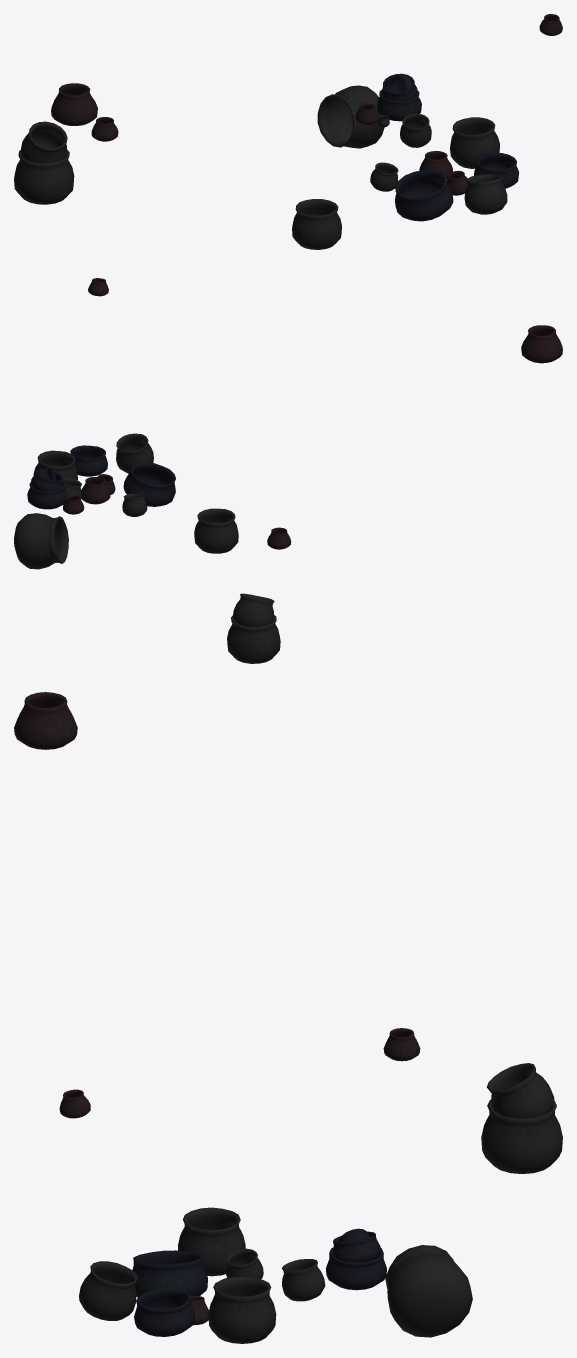
The model's file is kettles.obj.
The picture shows the model from 3 angles, top to bottom: view 1: azimuth 30°, elevation 25°; view 2: azimuth 150°, elevation 25°; view 3: azimuth 270°, elevation 25°; orthographic projection. The views are drawn at different scales.
Visible parts, largest first — view 1: kettle_1.005_Sphere.017, kettle_2.004_Sphere.013, kettle_1.007_Sphere.020, kettle_1.006_Sphere.019, kettle_1_Sphere.002, kettle_1.008_Sphere.021, kettle_3.003_Sphere.016, kettle_1.001_Sphere.006, kettle_2_Sphere.003, kettle_1.003_Sphere.014, kettle_2.001_Sphere.007, kettle_1.004_Sphere.015 (+7 smaller); view 2: kettle_1.005_Sphere.017, kettle_1.007_Sphere.020, kettle_2.004_Sphere.013, kettle_1.006_Sphere.019, kettle_3.003_Sphere.016, kettle_1.008_Sphere.021, kettle_1.001_Sphere.006, kettle_2_Sphere.003, kettle_1_Sphere.002, kettle_2.001_Sphere.007, kettle_3_Sphere.004, kettle_1.004_Sphere.015; view 3: kettle_1.005_Sphere.017, kettle_1.007_Sphere.020, kettle_1_Sphere.002, kettle_1.006_Sphere.019, kettle_3.003_Sphere.016, kettle_2.004_Sphere.013, kettle_1.008_Sphere.021, kettle_1.001_Sphere.006, kettle_2_Sphere.003, kettle_2.001_Sphere.007, kettle_1.003_Sphere.014, kettle_2.002_Sphere.008 (+2 smaller).
Part boxes in pixels (bbox=[...]): kettle_1.005_Sphere.017: bbox=[317, 85, 384, 148]; kettle_2.004_Sphere.013: bbox=[395, 170, 453, 221]; kettle_1.007_Sphere.020: bbox=[14, 149, 74, 204]; kettle_1.006_Sphere.019: bbox=[292, 199, 341, 249]; kettle_1_Sphere.002: bbox=[450, 117, 499, 168]; kettle_1.008_Sphere.021: bbox=[20, 121, 67, 163]; kettle_3.003_Sphere.016: bbox=[51, 83, 97, 125]; kettle_1.001_Sphere.006: bbox=[464, 174, 507, 214]; kettle_2_Sphere.003: bbox=[474, 152, 519, 188]; kettle_1.003_Sphere.014: bbox=[400, 113, 431, 147]; kettle_2.001_Sphere.007: bbox=[376, 90, 421, 121]; kettle_1.004_Sphere.015: bbox=[370, 162, 398, 191]; kettle_1.005_Sphere.017: bbox=[14, 513, 68, 569]; kettle_1.007_Sphere.020: bbox=[227, 615, 280, 663]; kettle_2.004_Sphere.013: bbox=[123, 462, 175, 506]; kettle_1.006_Sphere.019: bbox=[194, 508, 238, 553]; kettle_3.003_Sphere.016: bbox=[521, 325, 562, 363]; kettle_1.008_Sphere.021: bbox=[232, 593, 274, 626]; kettle_1.001_Sphere.006: bbox=[116, 433, 153, 473]; kettle_2_Sphere.003: bbox=[70, 445, 107, 476]; kettle_1_Sphere.002: bbox=[33, 450, 77, 480]; kettle_2.001_Sphere.007: bbox=[27, 481, 67, 509]; kettle_3_Sphere.004: bbox=[81, 477, 110, 504]; kettle_1.004_Sphere.015: bbox=[122, 493, 147, 516]; kettle_1.005_Sphere.017: bbox=[385, 1245, 472, 1337]; kettle_1.007_Sphere.020: bbox=[481, 1099, 562, 1173]; kettle_1_Sphere.002: bbox=[208, 1276, 276, 1343]; kettle_1.006_Sphere.019: bbox=[178, 1207, 245, 1276]; kettle_3.003_Sphere.016: bbox=[14, 692, 77, 749]; kettle_2.004_Sphere.013: bbox=[132, 1250, 207, 1297]; kettle_1.008_Sphere.021: bbox=[486, 1063, 554, 1118]; kettle_1.001_Sphere.006: bbox=[79, 1261, 137, 1320]; kettle_2_Sphere.003: bbox=[134, 1288, 195, 1336]; kettle_2.001_Sphere.007: bbox=[326, 1247, 386, 1290]; kettle_1.003_Sphere.014: bbox=[282, 1259, 325, 1301]; kettle_2.002_Sphere.008: bbox=[332, 1231, 380, 1262].
Bounding box in the file's own units: 4.41 × 2.24 × 3.01.
1 material, 1 textured.
